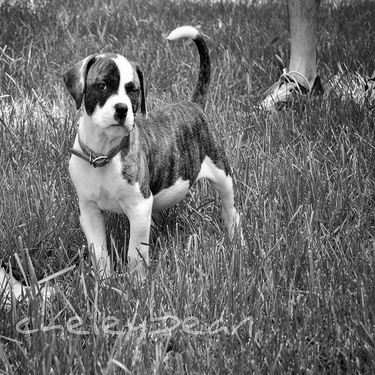dog: (52, 17, 253, 282), (1, 257, 59, 313)
